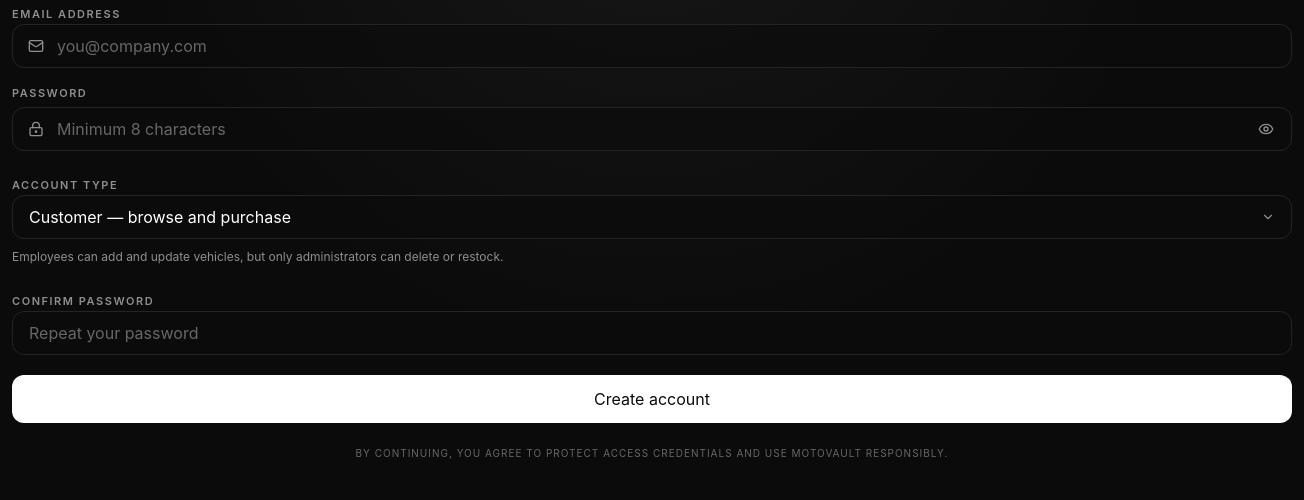
it: AuthForm › requires matching passwords during registration
Type "driver@example.com" into the field labelled "Email address" at (652, 46), box [12,24,1292,68]
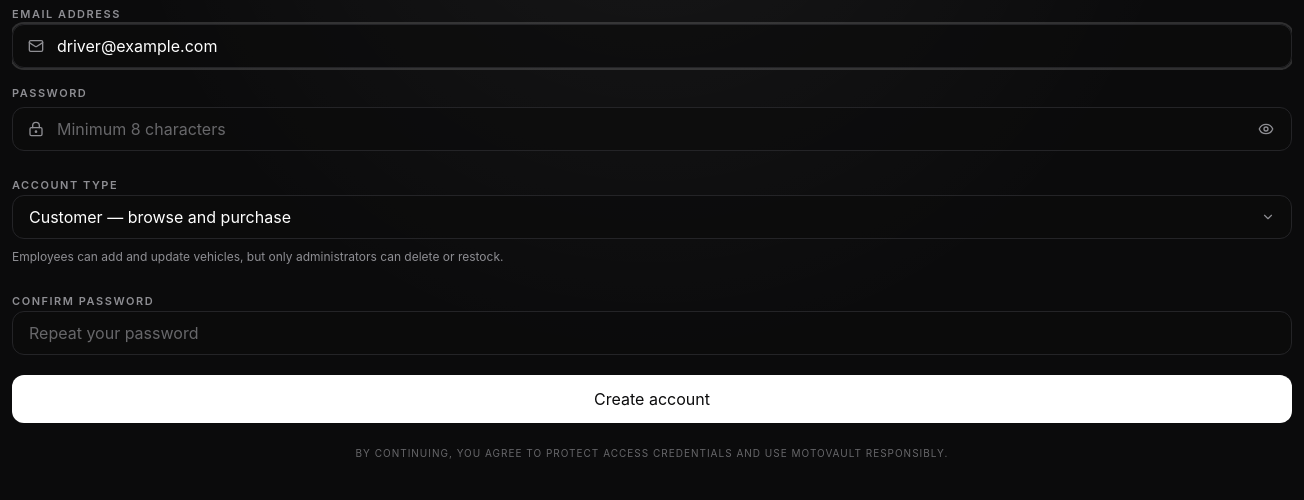
Type "SafePass123!" into the password field labelled "Password" at (652, 129), box [12,107,1292,151]
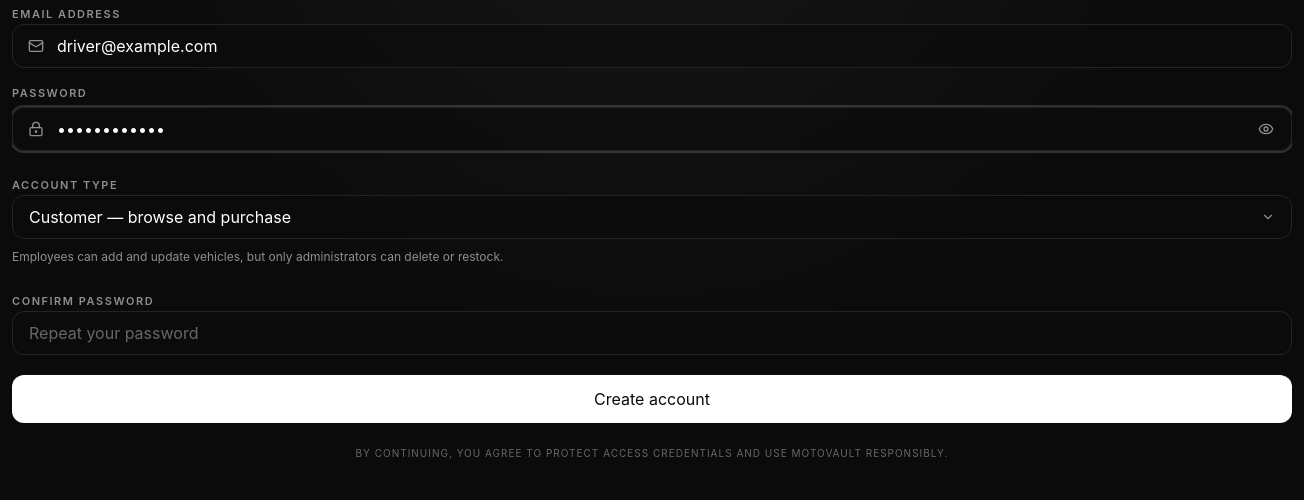
Type "Different123!" into the password field labelled "Confirm password" at (652, 333), box [12,311,1292,355]
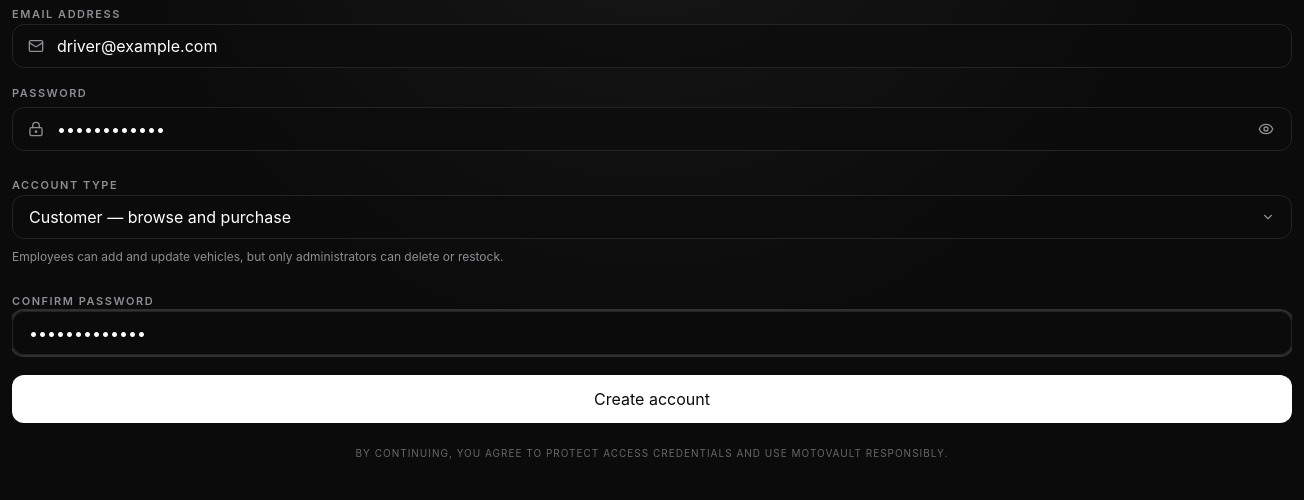
Click the button "Create account" at (652, 399), box [12,375,1292,423]
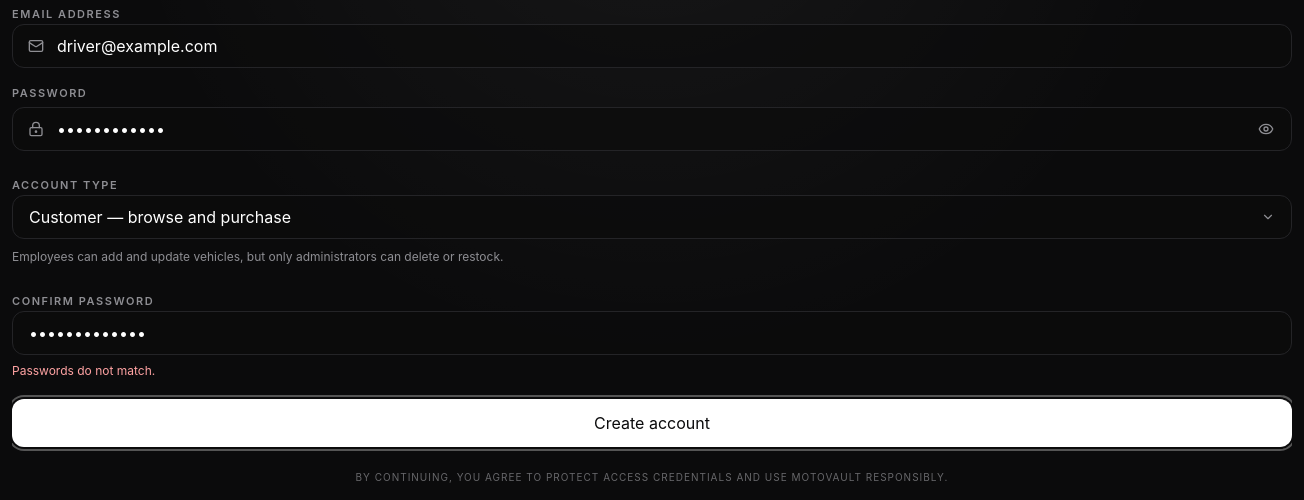
Now the text "Passwords do not match." is shown, box [12,363,155,378]
